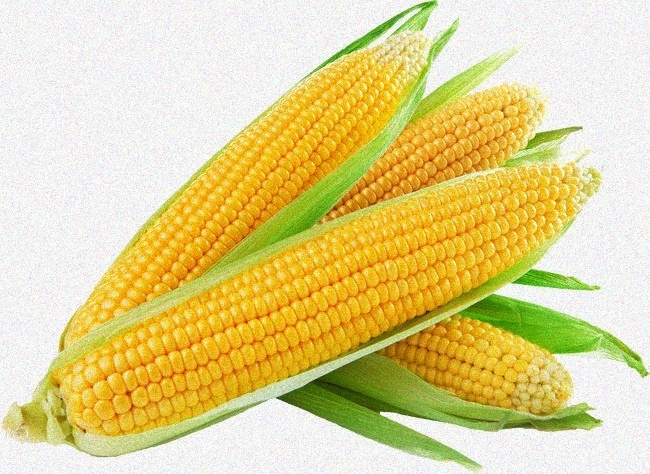corn: (52, 157, 592, 437), (69, 18, 428, 344)
